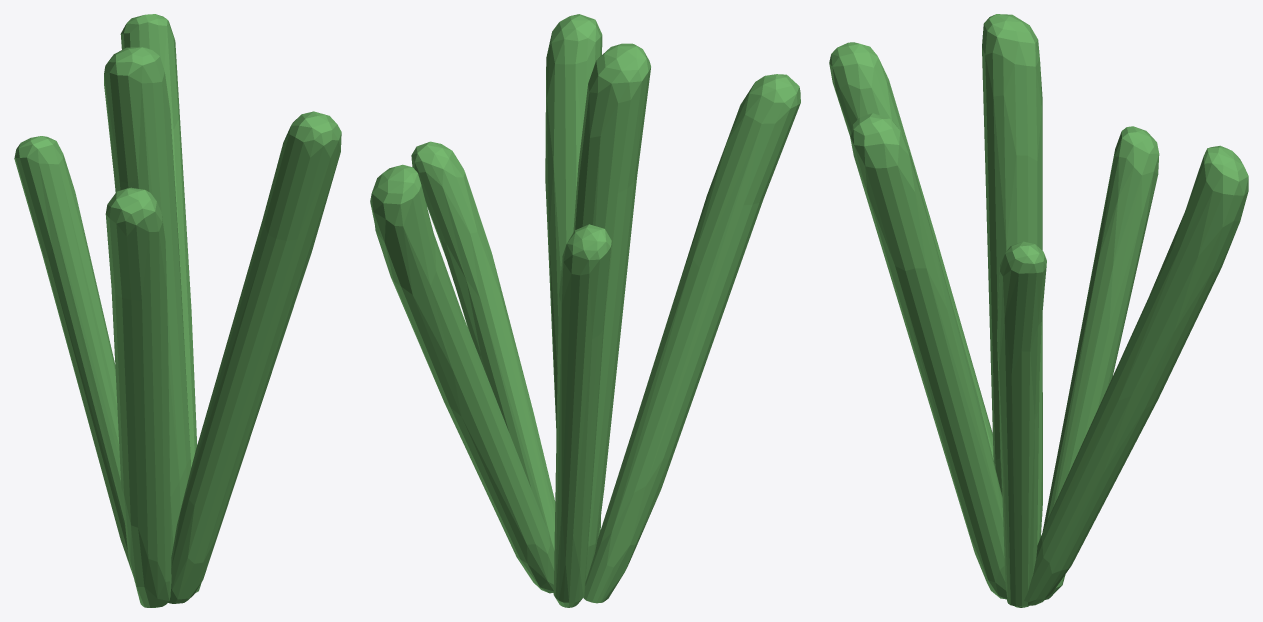
The model's file is Cactus3.fbx.
The picture shows the model from 3 angles, left to right: view 1: azimuth 30°, elevation 25°; view 2: azimuth 150°, elevation 25°; view 3: azimuth 270°, elevation 25°; orthographic projection. The views are drawn at different scales.
Parts seen in each view (by area): view 1: Cactus3; view 2: Cactus3; view 3: Cactus3.
Part boxes in pixels (x1,y1,x2,y2): Cactus3: [14, 14, 341, 607]; Cactus3: [370, 14, 800, 607]; Cactus3: [829, 14, 1248, 607].
Bounding box in the file's own units: 1.85 × 3.28 × 2.22.
